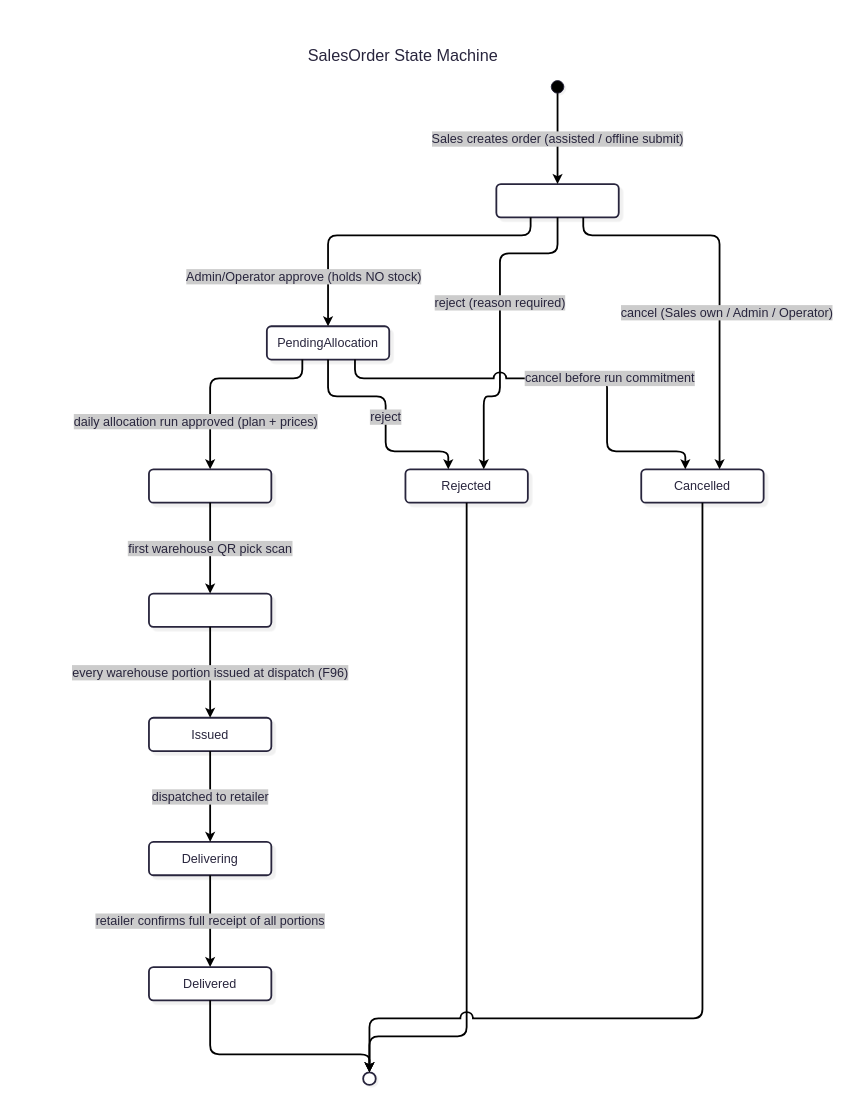
Image size: 848x1103. Some labels were removed from this diagram. The shapes that lost their labels are listed below. From the top down, each one's centre as x and y in pixels, then its label:
[559,202]: PendingApproval
[211,487]: Approved
[211,611]: Picking
